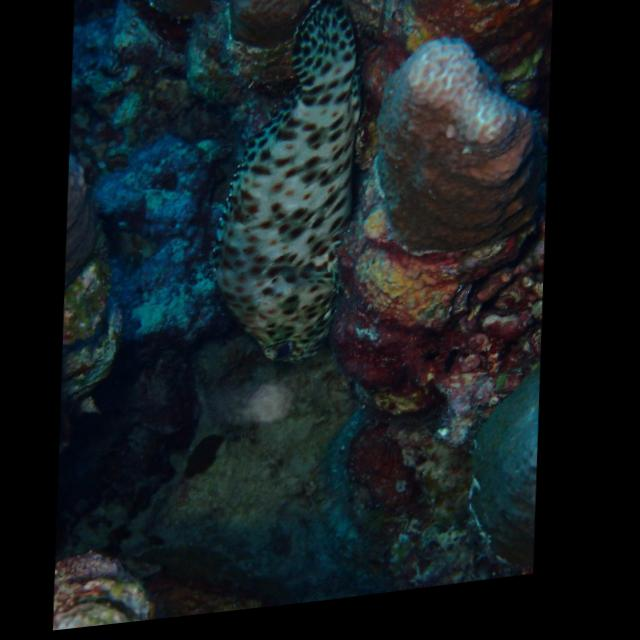Groupers: (197, 0, 363, 374)
